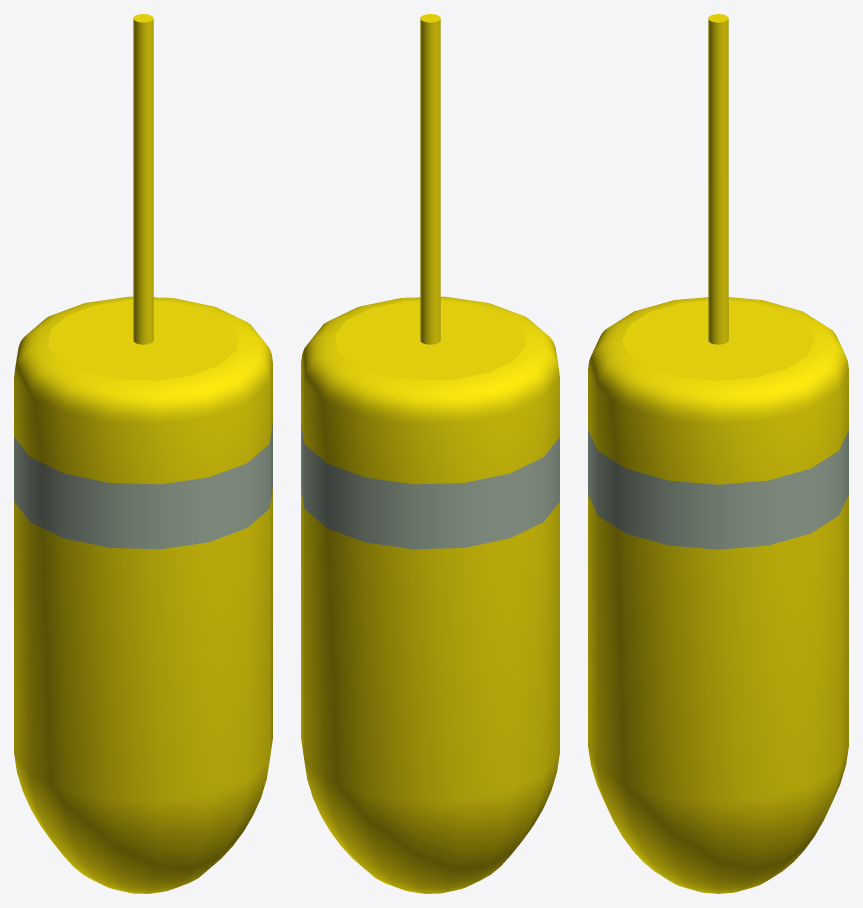
The model's file is lobsterBuoy.obj.
3 views of the same model, side by side, from view 1: azimuth 30°, elevation 25°; view 2: azimuth 150°, elevation 25°; view 3: azimuth 270°, elevation 25° (orthographic).
Size of the model in its own units: 6.21 by 22.82 by 6.21.
